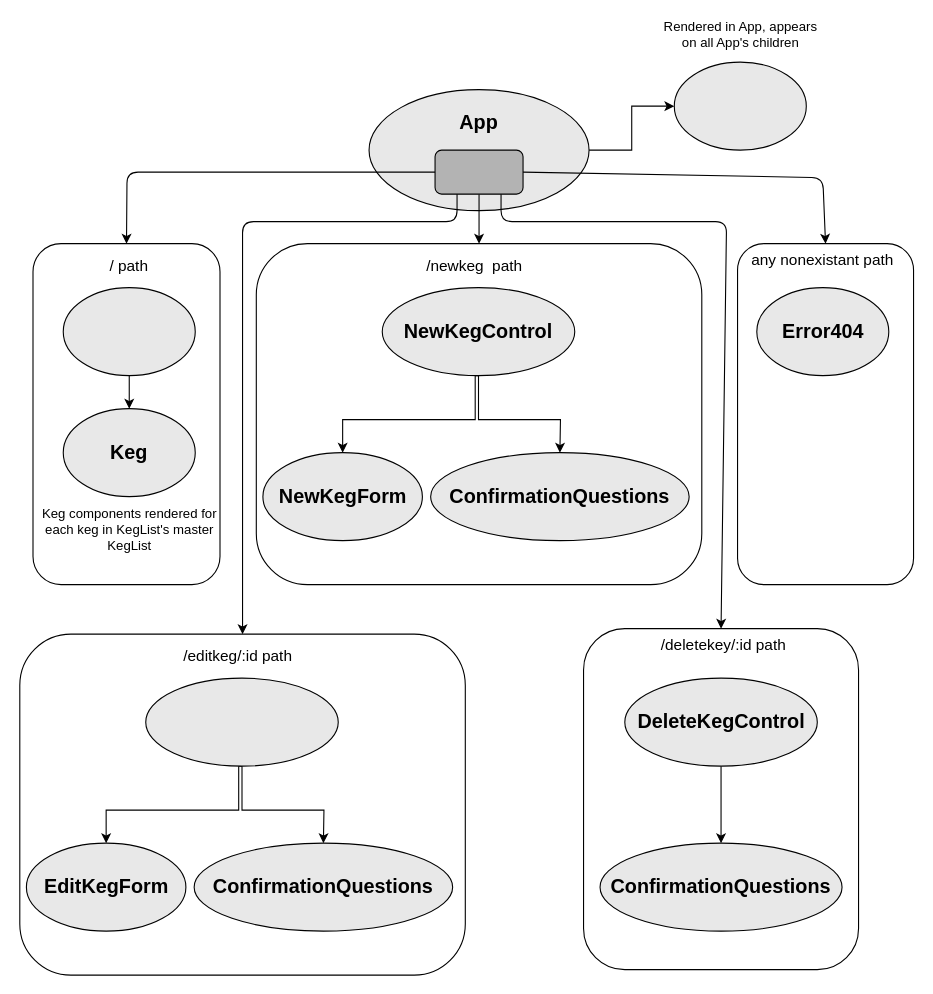
Image size: 933x994. Some labels were removed from this diagram. The shapes that lost their labels are listed below. From the top down, each one's centre as x and y in pixels, then its label:
the point at 739,105: Header
the point at 478,171: Routes
the point at 128,331: KegList
the point at 241,721: EditKegControl
